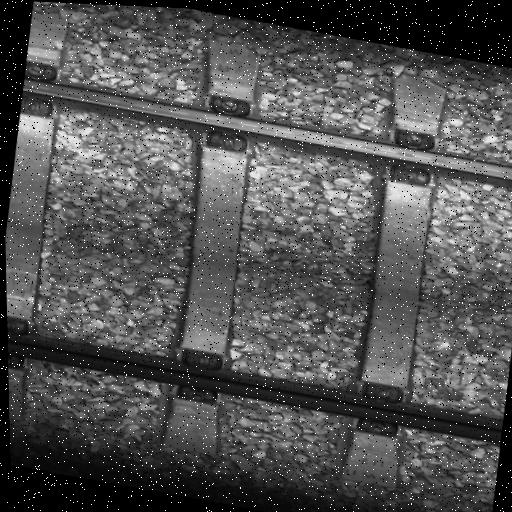sleeper: (330, 67, 464, 494), (152, 32, 279, 461), (0, 0, 81, 424)
